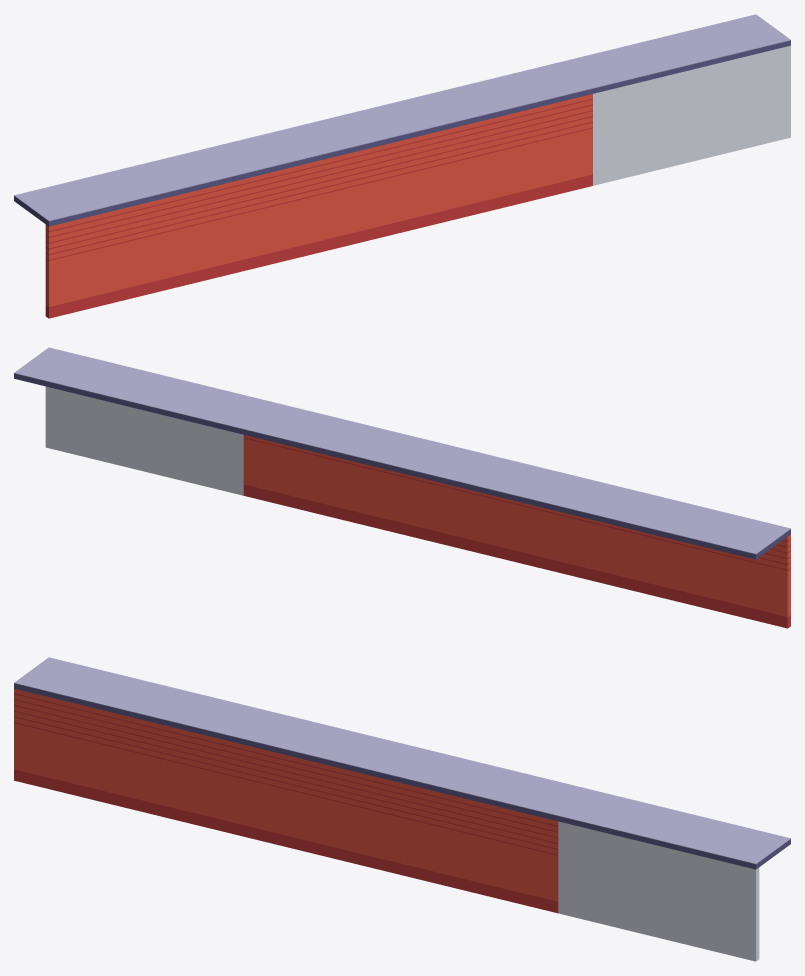
File: platforms_back.glb
3 views of the same model, one above another, from view 1: azimuth 30°, elevation 25°; view 2: azimuth 150°, elevation 25°; view 3: azimuth 330°, elevation 25° (orthographic).
Visible parts, largest first — view 1: block (×8), floor; view 2: block (×3), floor; view 3: block (×8), floor.
Part boxes in pixels (<box>): block (×8): <box>45,45,790,318</box>; floor: <box>14,14,790,226</box>; block (×3): <box>45,386,790,628</box>; floor: <box>14,347,790,559</box>; block (×8): <box>14,688,759,961</box>; floor: <box>14,657,790,869</box>.
Size of the model in its own units: 135 by 17 by 11.
